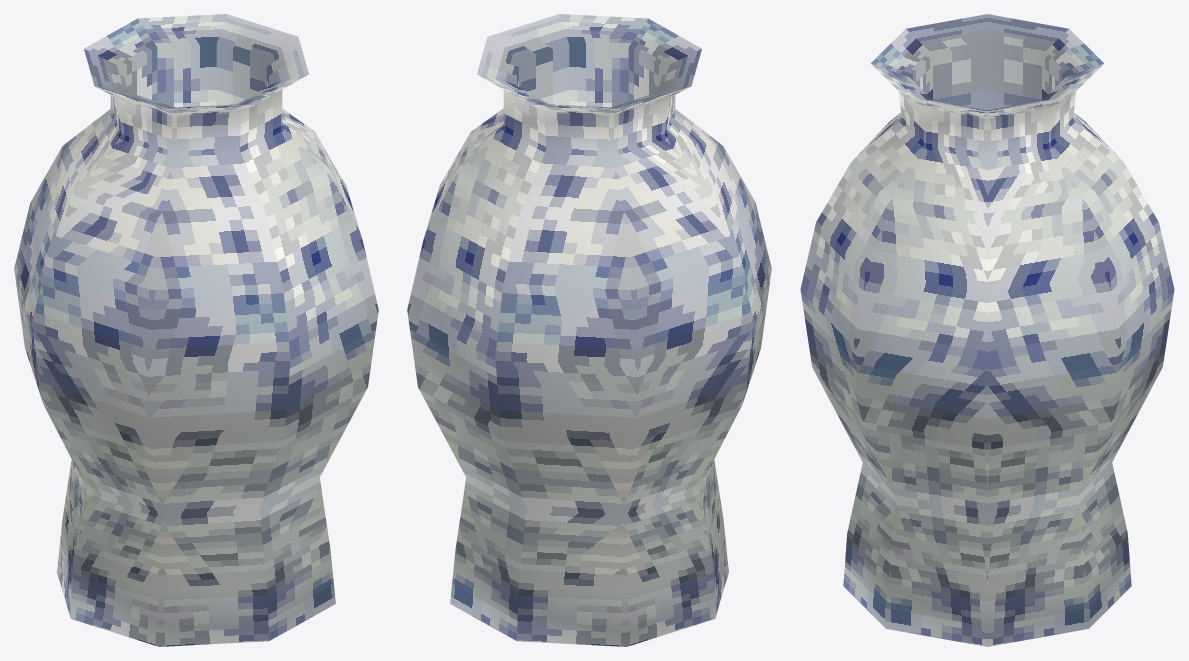
The model's file is otubo1.glb.
3 views of the same model, side by side, from view 1: azimuth 30°, elevation 25°; view 2: azimuth 150°, elevation 25°; view 3: azimuth 270°, elevation 25° (orthographic).
Visible parts, largest first — view 1: otubo1; view 2: otubo1; view 3: otubo1.
Boxes of the visible parts, x1,y1,x2,y2 form: otubo1: (14, 14, 378, 646); otubo1: (407, 14, 771, 646); otubo1: (800, 14, 1174, 646).
Size of the model in its own units: 96 by 149 by 96.
Materials: 1 (1 with a texture image).
